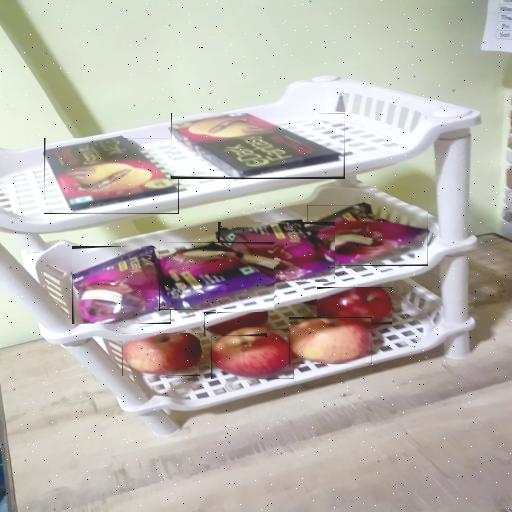Apple: (211, 329, 294, 379), (289, 317, 372, 364), (122, 334, 200, 378), (318, 288, 394, 326), (204, 312, 267, 336)
Choco Fills: (171, 113, 345, 179), (44, 138, 179, 214)
Choco Pie: (72, 246, 171, 324), (160, 243, 274, 309), (307, 205, 428, 266), (218, 222, 335, 282)
